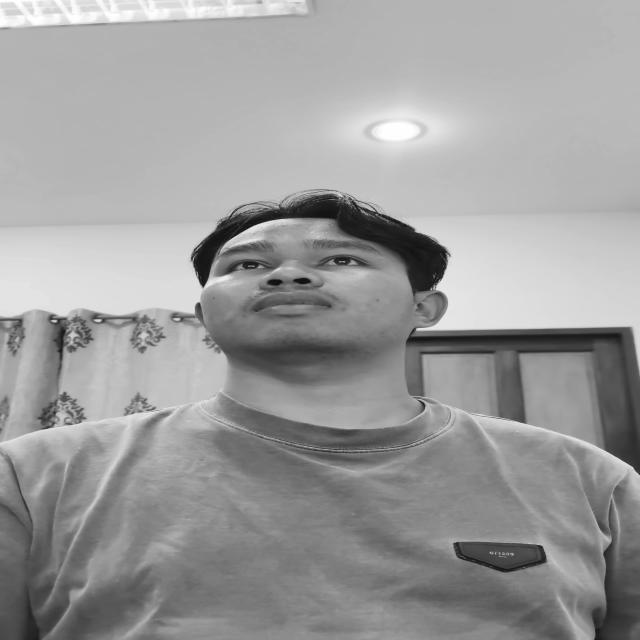ear: (414, 290, 448, 328)
